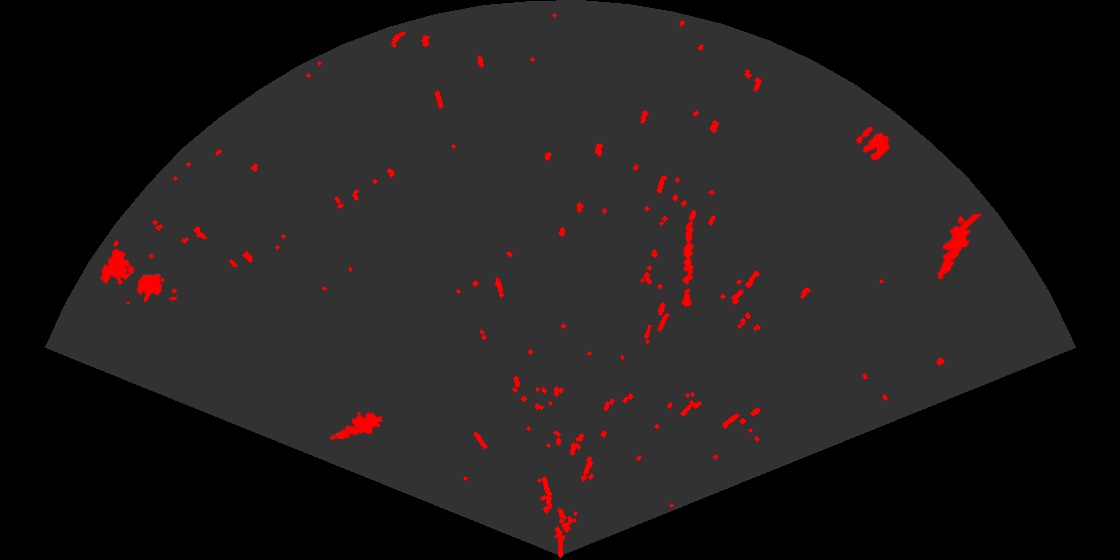ball: (854, 125, 891, 162)
cage: (98, 247, 177, 304)
chain: (679, 208, 698, 308)
frogman: (935, 214, 984, 281), (329, 410, 382, 441)
